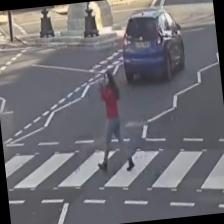person: (88, 70, 134, 174)
